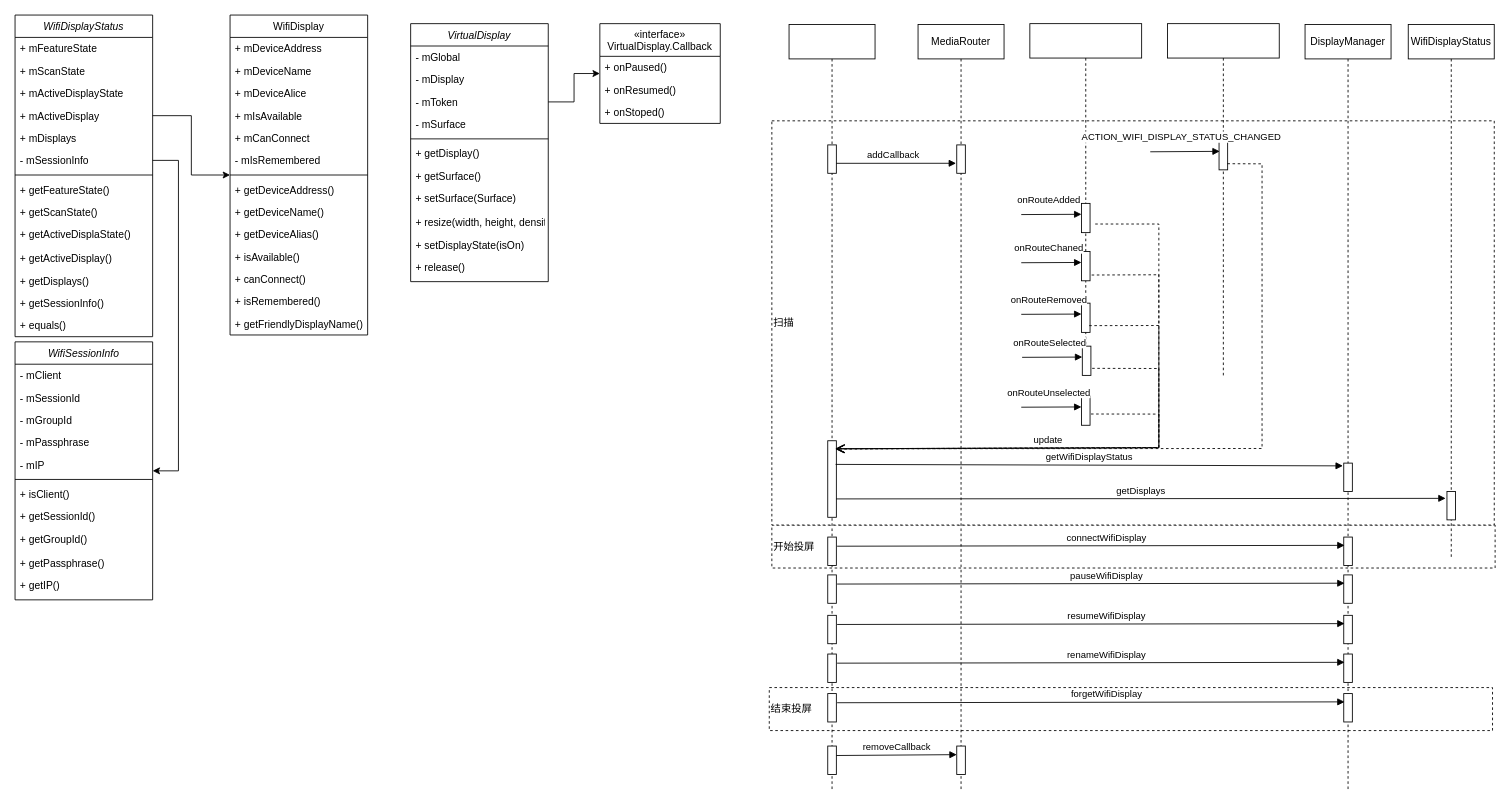
Some shapes in this 1510 by 804 pixel diagram are drawn without their labels. Each missing label, with the centre of its shape:
"BroadcastReceiver" belongs at (1223,199).
"CastService" belongs at (831,406).
"MediaRouter.Callback" belongs at (1085,199).
